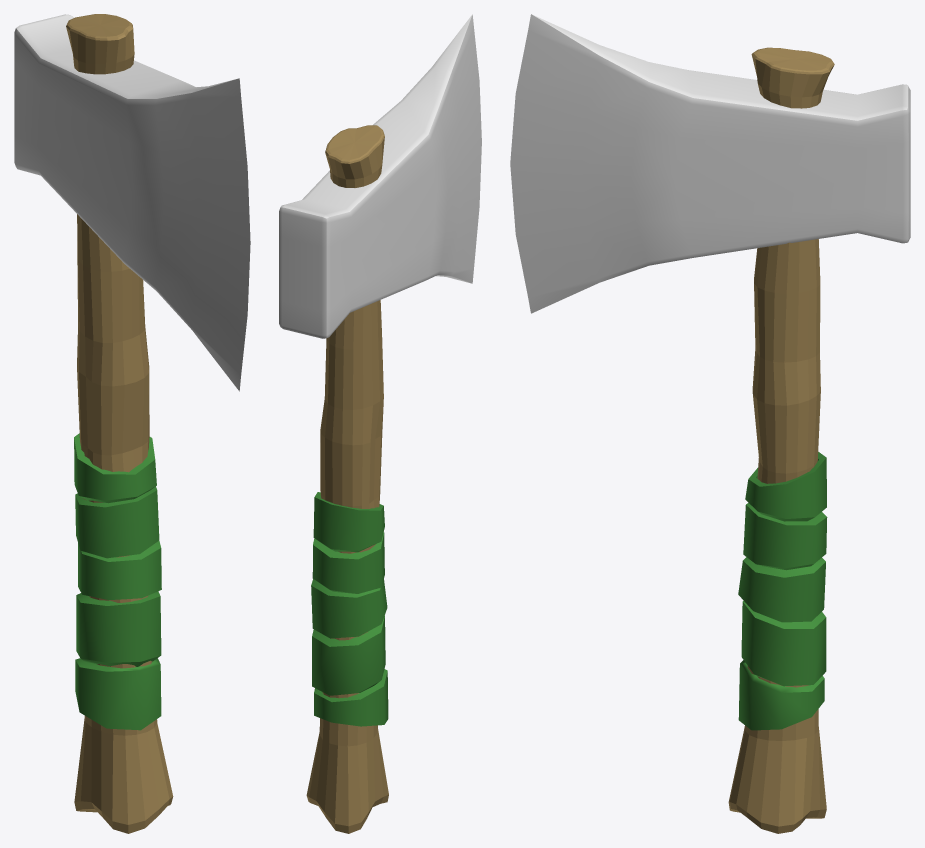
Rendered from Axe_Middle.fbx.
The picture shows the model from 3 angles, left to right: view 1: azimuth 30°, elevation 25°; view 2: azimuth 150°, elevation 25°; view 3: azimuth 270°, elevation 25°; orthographic projection. The views are drawn at different scales.
Parts seen in each view (by area): view 1: Axe_Middle; view 2: Axe_Middle; view 3: Axe_Middle.
Boxes of the visible parts, x1,y1,x2,y2 form: Axe_Middle: [14, 14, 250, 833]; Axe_Middle: [279, 14, 481, 833]; Axe_Middle: [510, 14, 910, 833].
Bounding box in the file's own units: 7.56 × 68.45 × 30.92.
